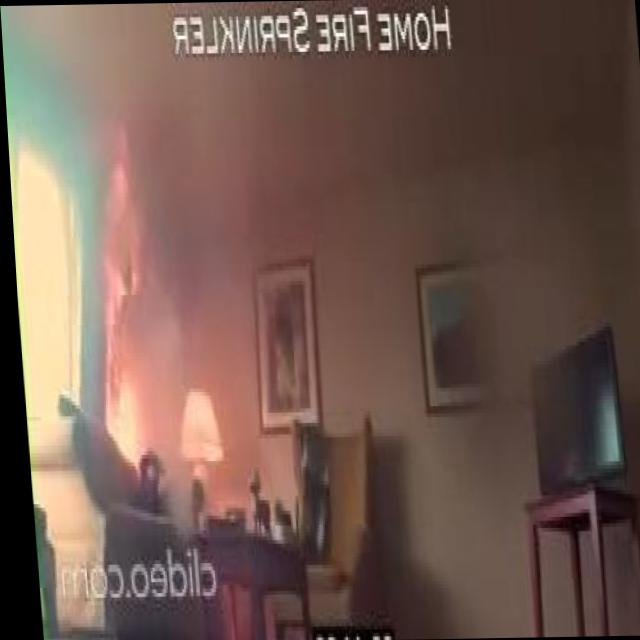fire: (77, 129, 158, 454)
